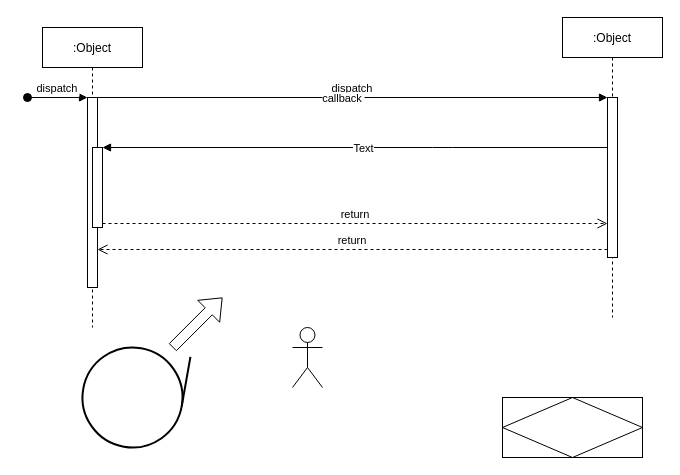
Some shapes in this 680 by 475 pixel diagram are drawn without their labels. The shapes that lost their labels are listed below. From the top down, each one's box as (x1, y1, x2, y2) in pixels, then its label:
(292, 326, 322, 388): Actor
(502, 396, 642, 458): Associative Entity
